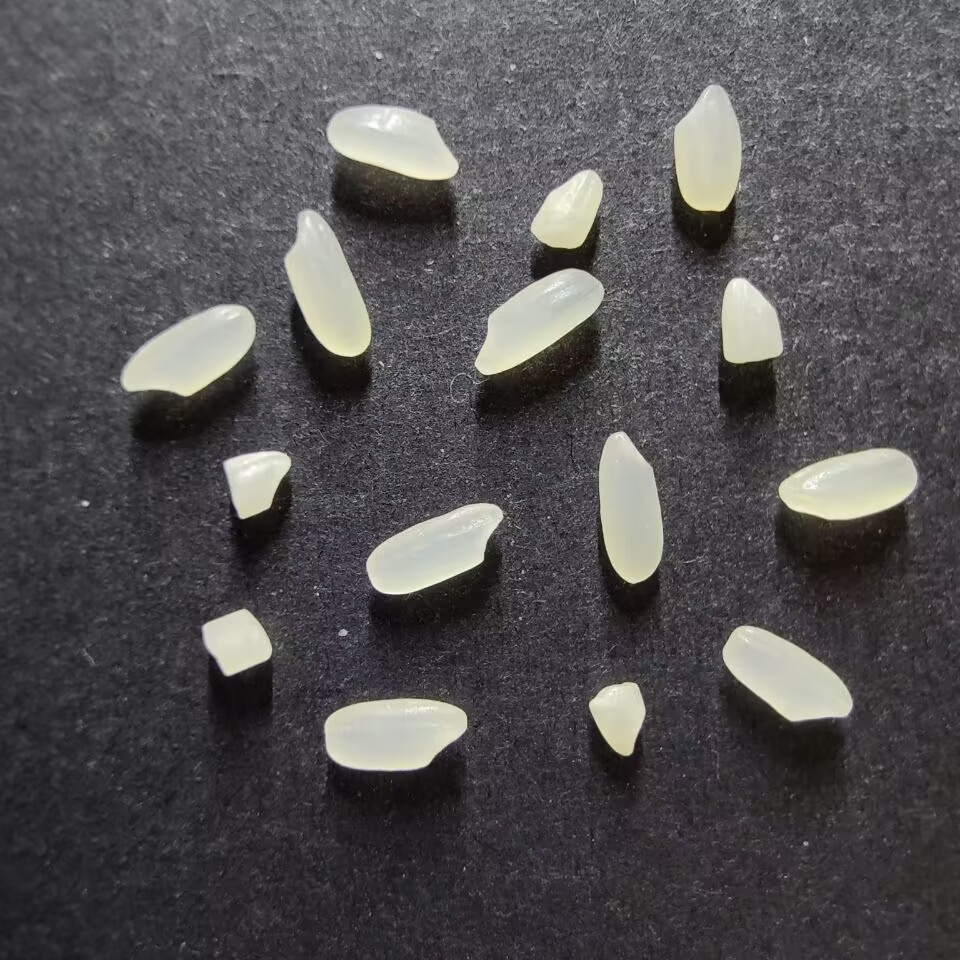broken: (529, 168, 603, 249), (720, 277, 783, 363), (201, 609, 272, 676), (223, 450, 291, 519), (588, 681, 645, 756)
rice: (474, 267, 604, 375), (283, 209, 371, 357), (721, 625, 853, 722), (365, 502, 502, 594), (120, 304, 255, 396), (323, 698, 467, 771), (326, 104, 459, 180), (597, 431, 662, 584), (778, 449, 917, 520), (672, 84, 741, 213)
